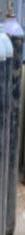cylinder: (0, 1, 25, 235)
